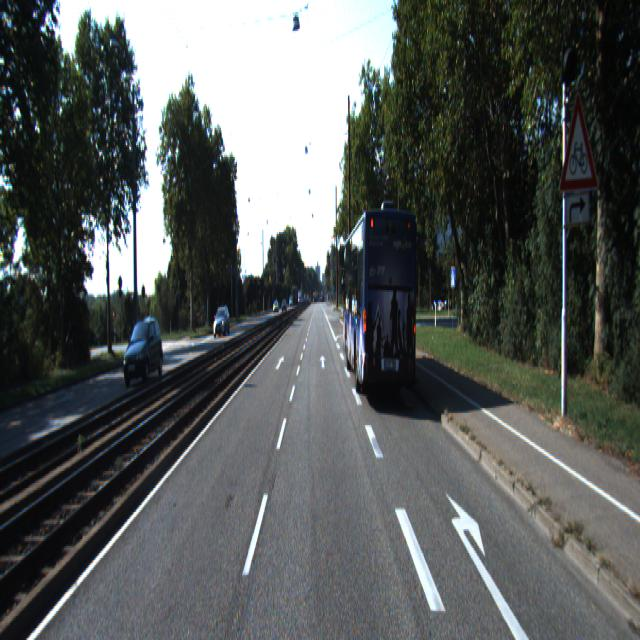Car: (342, 206, 420, 410), (122, 318, 166, 388), (213, 306, 231, 336)
